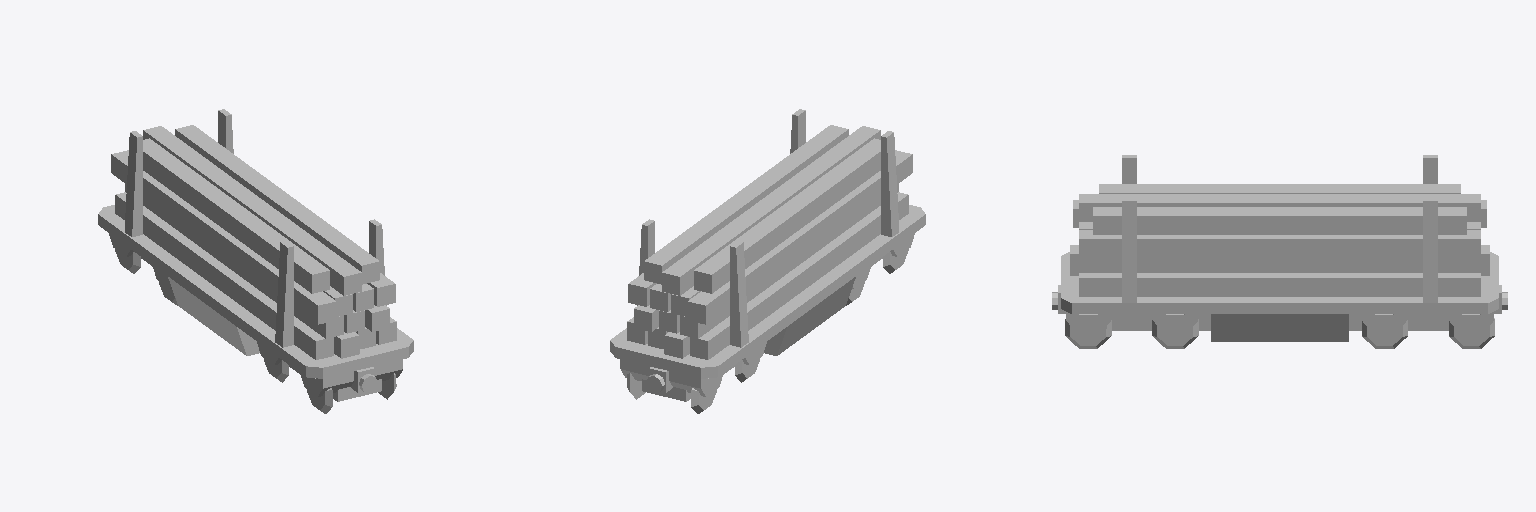
Rendered from SM_Veh_Carriage_Logs_01.obj.
3 renders of one model, left to right at view 1: azimuth 30°, elevation 25°; view 2: azimuth 150°, elevation 25°; view 3: azimuth 270°, elevation 25°, orthographic.
Visible parts, largest first — view 1: SM_Veh_Carriage_Logs_01:Mesh; view 2: SM_Veh_Carriage_Logs_01:Mesh; view 3: SM_Veh_Carriage_Logs_01:Mesh.
Boxes of the visible parts, x1,y1,x2,y2 form: SM_Veh_Carriage_Logs_01:Mesh: [98, 109, 413, 413]; SM_Veh_Carriage_Logs_01:Mesh: [610, 109, 925, 413]; SM_Veh_Carriage_Logs_01:Mesh: [1052, 155, 1507, 348].
Size of the model in its own units: 4.5 by 6.18 by 16.45.